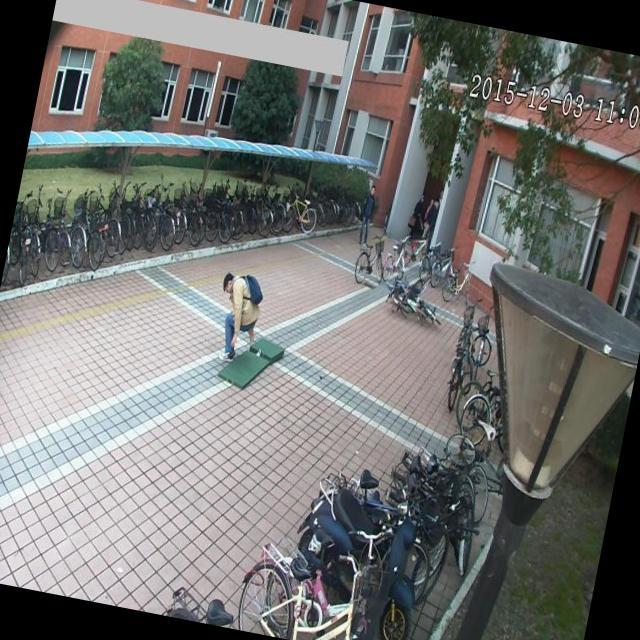person: (204, 264, 268, 368), (354, 180, 384, 252)
